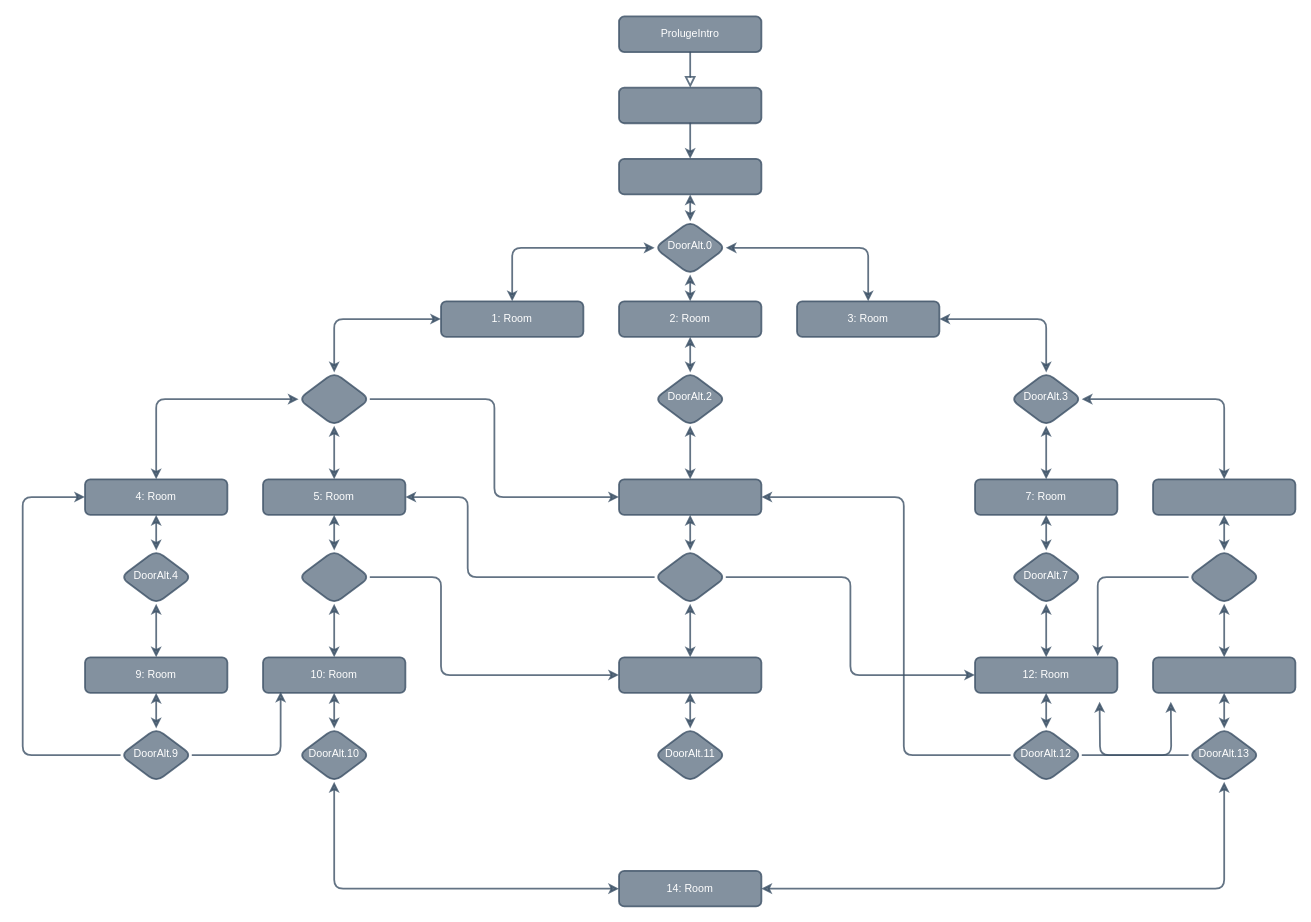
This 1311x922 diagram has some shape labels left out. Here are the shapes that lost their labels. From the top down, the centre of each, then its label:
At point 690,105: "PlayerName".
At point 690,176: "0: Room".
At point 333,398: "DoorAlt.1".
At point 690,496: "6: Room".
At point 1224,496: "8: Room".
At point 333,576: "DoorAlt.5".
At point 689,576: "DoorAlt.6".
At point 1223,576: "DoorAlt.8".
At point 690,674: "11: Room".
At point 1224,674: "13: Room".
